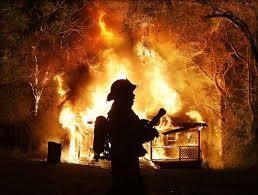fire: (47, 13, 198, 165)
